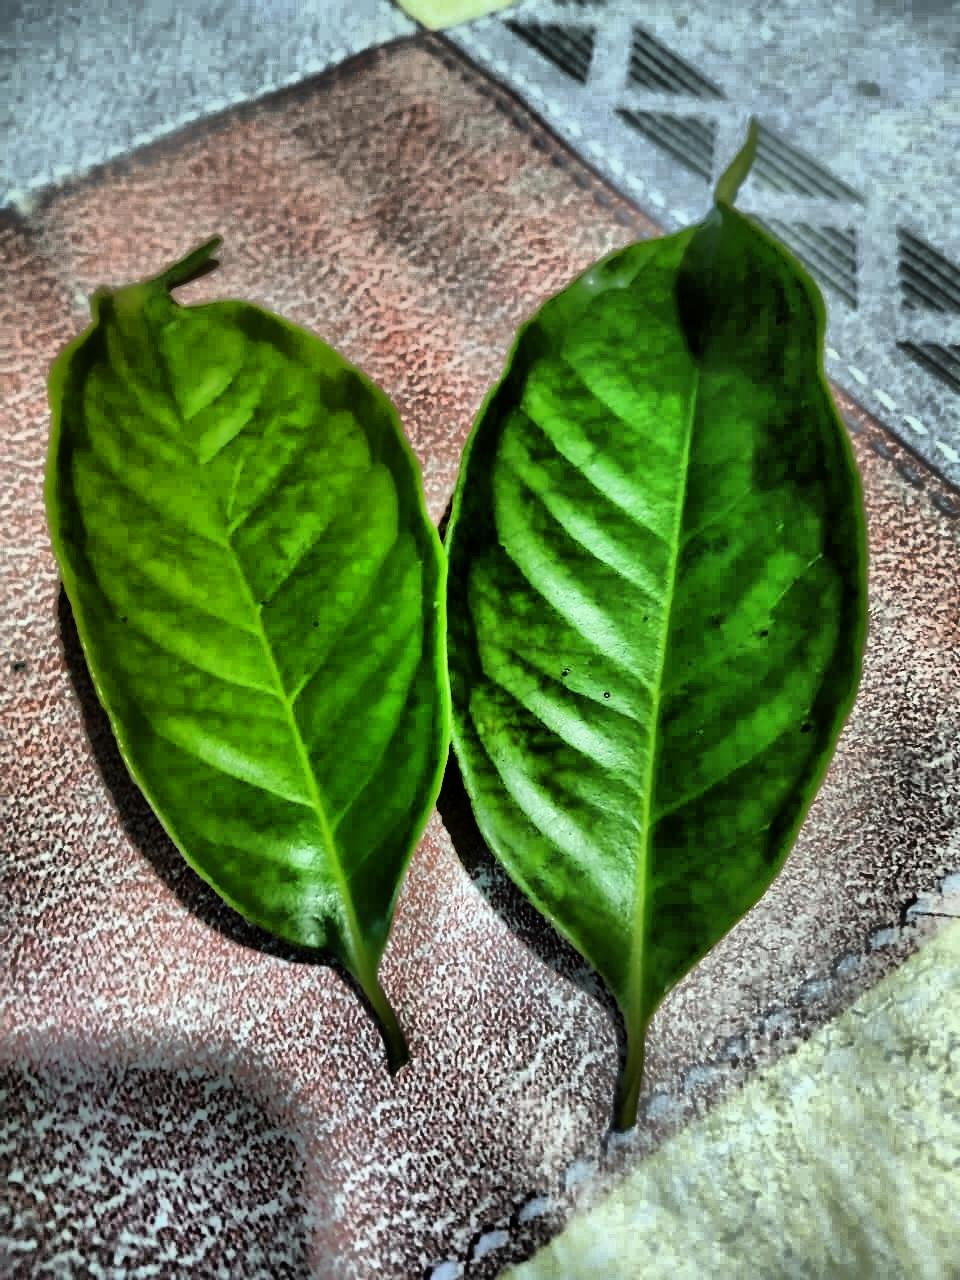daun salam: (47, 126, 865, 1126)
